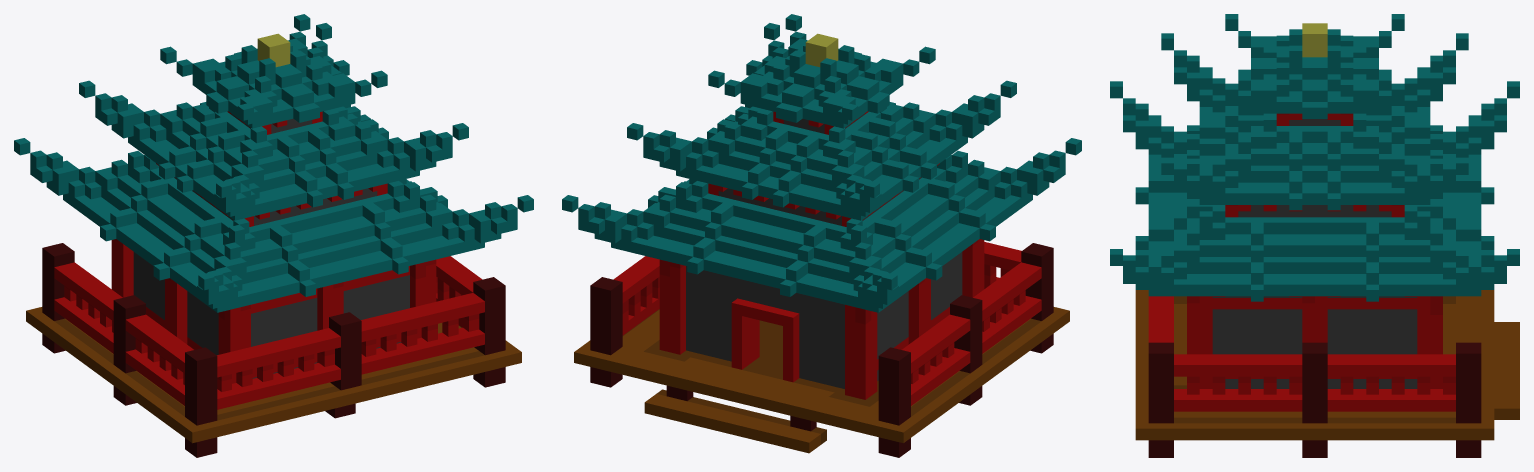
The model's file is turtleHQ.obj.
3 renders of one model, left to right at view 1: azimuth 30°, elevation 25°; view 2: azimuth 150°, elevation 25°; view 3: azimuth 270°, elevation 25°, orthographic. The views are drawn at different scales.
Size of the model in its own units: 3.2 by 3 by 3.2.
Materials: 1 (1 with a texture image).
